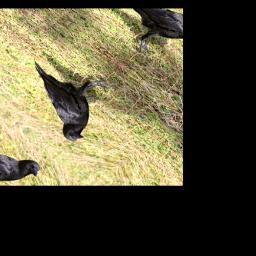Crow: (0, 40, 131, 145)
